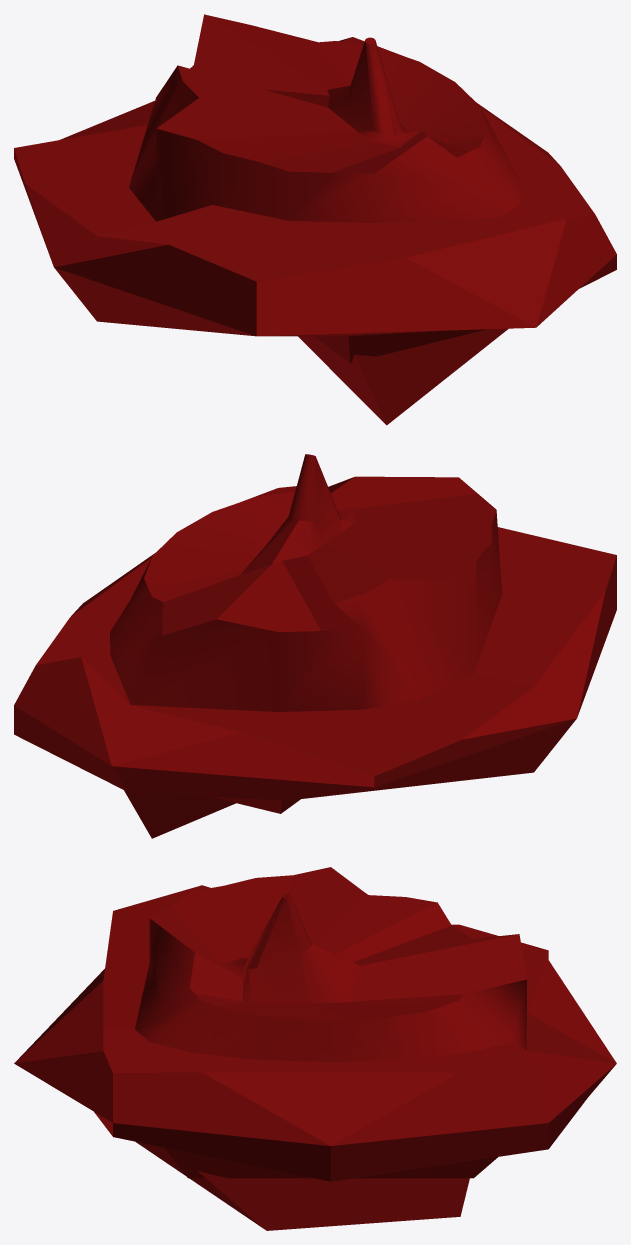
Rendered from Sun Dial Bad.fbx.
3 views of the same model, one above another, from view 1: azimuth 30°, elevation 25°; view 2: azimuth 150°, elevation 25°; view 3: azimuth 270°, elevation 25° (orthographic). The views are drawn at different scales.
Visible parts, largest first — view 1: pCube2; view 2: pCube2; view 3: pCube2.
Boxes of the visible parts, <box> form: pCube2: <box>14,14,616,425</box>; pCube2: <box>14,454,616,838</box>; pCube2: <box>14,867,616,1230</box>.
Size of the model in its own units: 58.82 by 37.38 by 69.21.
Materials: 1 (1 with a texture image).
